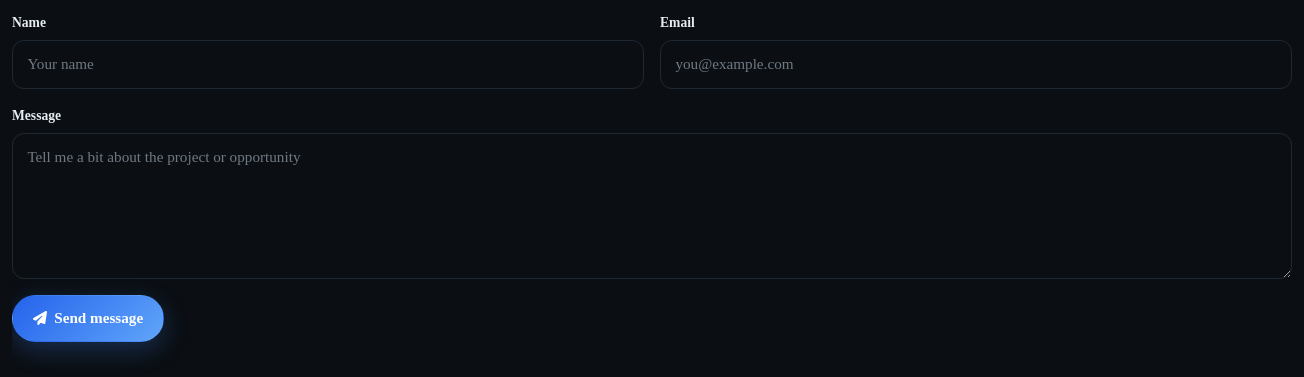
Test case: <ContactForm /> › avisa quando a mensagem foi enviada
Click the button "Send message": (88, 318) [12,295,164,342]
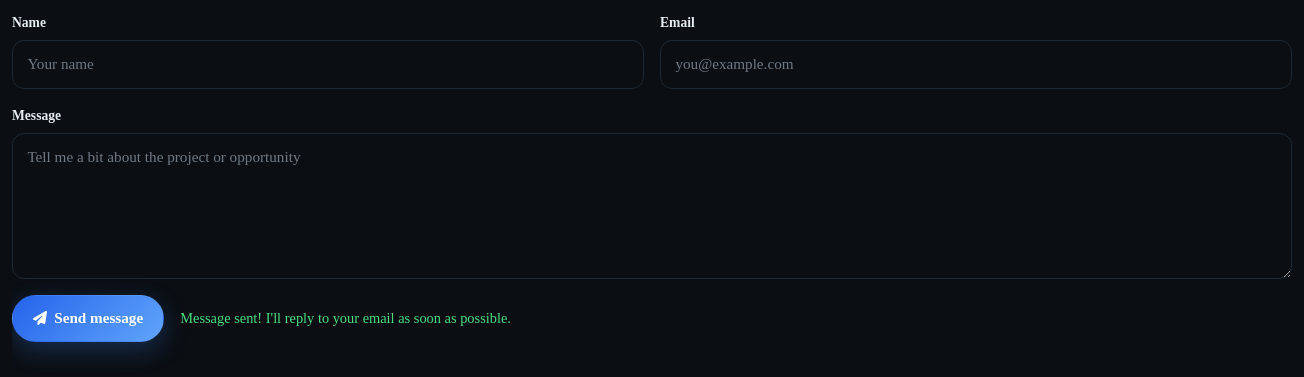
Result: the message shows "Message sent!" at [180,310,511,326]
